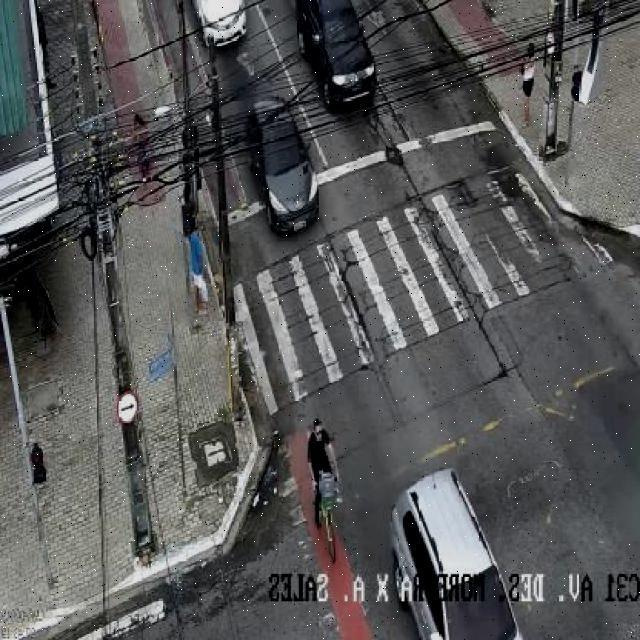Car: (384, 458, 534, 640), (246, 95, 324, 241), (291, 0, 381, 115)
Cycle: (307, 465, 346, 573)
